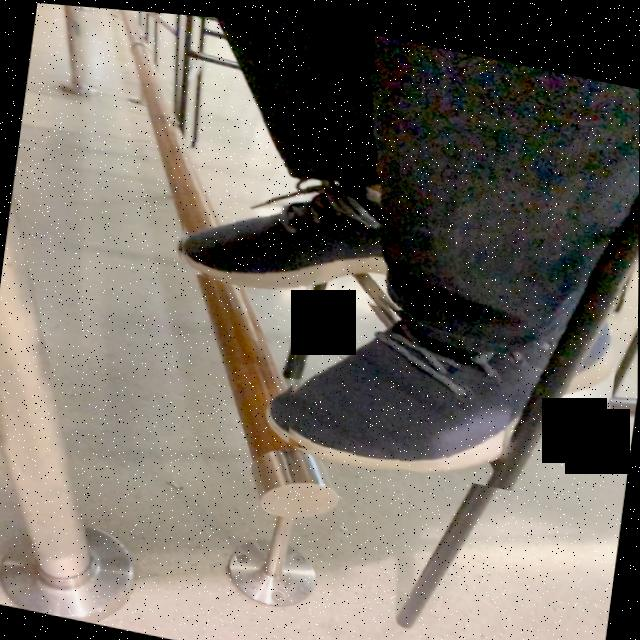shoe: (287, 264, 619, 460), (182, 173, 411, 280)
